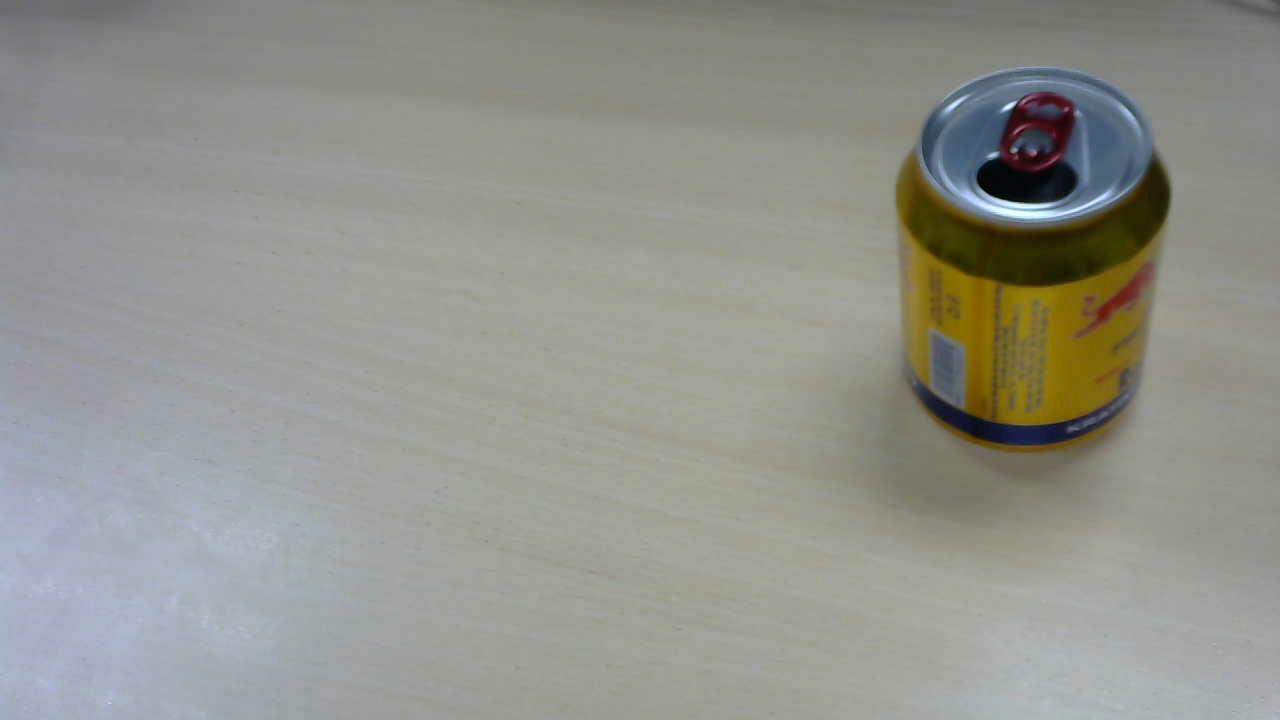Red_Bull: (897, 67, 1179, 458)
